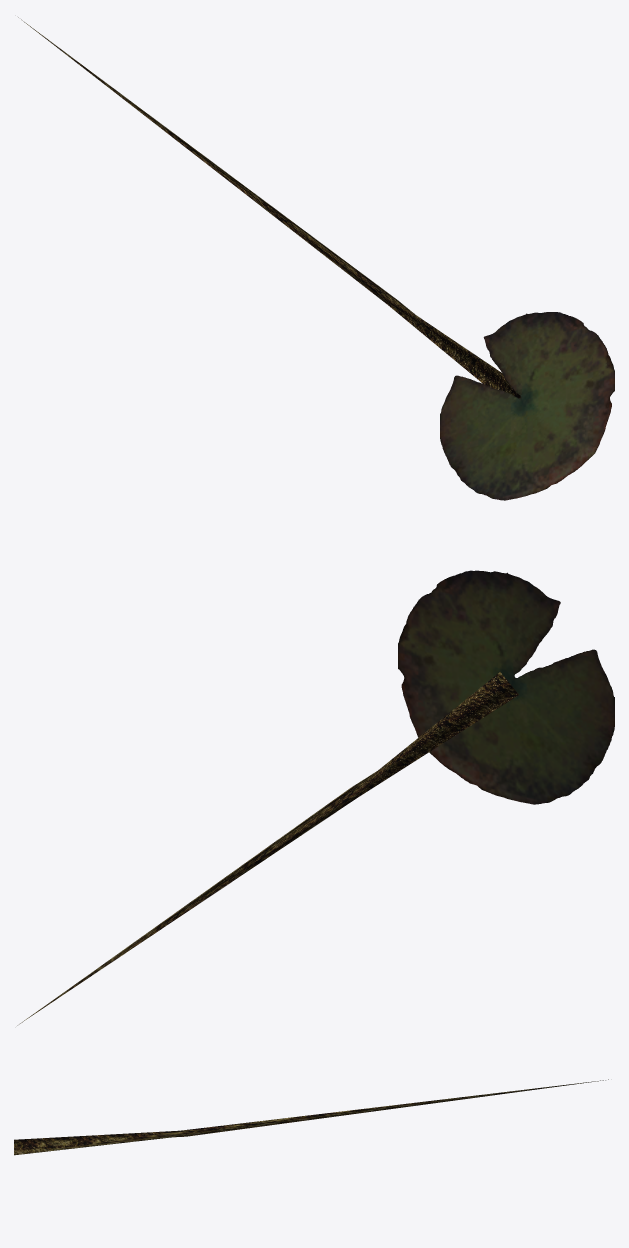
The model's file is flora_bc_lilypad_01.obj.
The picture shows the model from 3 angles, top to bottom: view 1: azimuth 30°, elevation 25°; view 2: azimuth 150°, elevation 25°; view 3: azimuth 270°, elevation 25°; orthographic projection. The views are drawn at different scales.
Parts seen in each view (by area): view 1: Tri Pad 0, Tri Flora_BC_Lilypad_01 0; view 2: Tri Pad 0, Tri Flora_BC_Lilypad_01 0; view 3: Tri Flora_BC_Lilypad_01 0.
Part boxes in pixels (<box>): Tri Pad 0: <box>440,312,614,500</box>; Tri Flora_BC_Lilypad_01 0: <box>18,17,520,398</box>; Tri Pad 0: <box>398,570,614,804</box>; Tri Flora_BC_Lilypad_01 0: <box>17,672,518,1025</box>; Tri Flora_BC_Lilypad_01 0: <box>14,1079,608,1155</box>.
Size of the model in its own units: 50 by 50 by 225.
